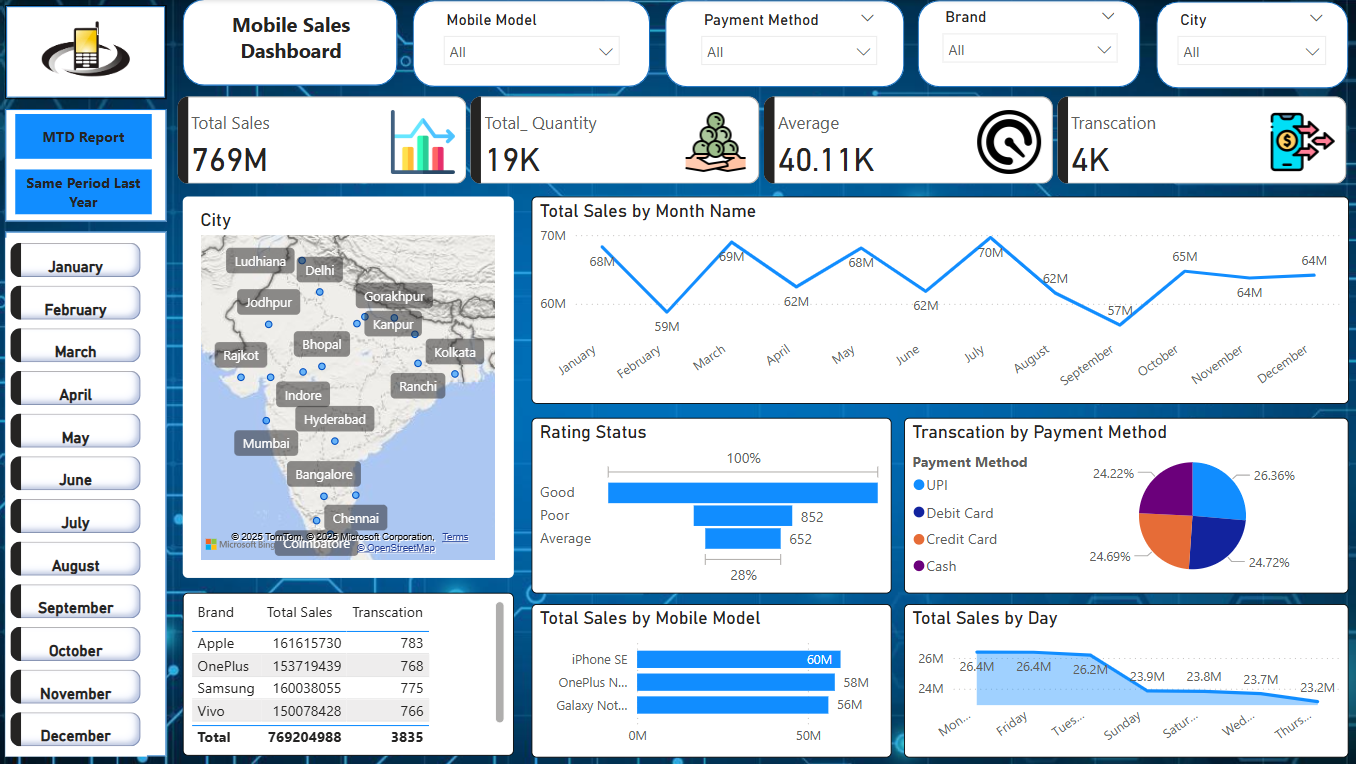

The page's visual inventory and layout, read from the dashboard file:
{"tool":"powerbi","page":{"name":"Dashboard","canvas":[1280,720],"ordinal":0},"visuals":[{"type":"shape","box":[10.5,218,151.2,492.2],"z":0},{"type":"shape","box":[392.5,1.2,222.5,81.2],"z":1000},{"type":"advancedSlicerVisual","fields":{"Values":["dim_date.Month Name"]},"box":[10.5,223.8,132.4,486.3],"z":2000},{"type":"cardVisual","fields":{"Data":["_Measure.Total Sales","_Measure.Total_ Quantity","_Measure.Average","_Measure.Transcation"]},"box":[161.2,81.2,1118.8,102.5],"z":3000},{"type":"shape","box":[177.5,0,201.2,81.2],"z":4000},{"type":"textbox","box":[195,6.2,167.5,71.2],"z":5000},{"type":"slicer","fields":{"Values":["Sales_Data.Mobile Model"]},"box":[411.2,6.2,185,77.5],"z":6000},{"type":"shape","box":[629.2,1.2,224.1,81.5],"z":7000},{"type":"shape","box":[866.5,1.2,208.5,81.5],"z":8000},{"type":"slicer","fields":{"Values":["Sales_Data.Brand"]},"box":[878.5,3.6,184.6,77.9],"z":9000},{"type":"slicer","fields":{"Values":["Sales_Data.Payment Method"]},"box":[652.5,6.2,185,77.5],"z":10000},{"type":"map","fields":{"Category":["Sales_Data.City"]},"box":[177.5,184.7,310.2,357.8],"z":11000},{"type":"shape","box":[10.5,103.1,151.2,105.5],"z":12000},{"type":"shape","box":[10.5,5.9,151.2,87.9],"z":13000},{"type":"lineChart","fields":{"Category":["dim_date.Month Name"],"Y":["_Measure.Total Sales"]},"box":[503.5,184.7,766.1,194.8],"z":14000},{"type":"shape","box":[1089.4,2.4,179.8,81.5],"z":15000},{"type":"slicer","fields":{"Values":["Sales_Data.City"]},"box":[1099,6,159.4,73.1],"z":16000},{"type":"funnel","title":" Rating Status","fields":{"Category":["Sales_Data.Rating Status"],"Y":["CountNonNull(Sales_Data.Customer Ratings)"]},"box":[503.5,392.4,337.6,164.5],"z":17000},{"type":"pieChart","fields":{"Y":["_Measure.Transcation"],"Category":["Sales_Data.Payment Method"]},"box":[852.7,392,416.9,164.6],"z":18000},{"type":"clusteredBarChart","fields":{"Y":["_Measure.Total Sales"],"Category":["Sales_Data.Mobile Model"]},"box":[503.5,567,337.6,144.3],"z":19000},{"type":"areaChart","title":"Total Sales by Day ","fields":{"Y":["_Measure.Total Sales"],"Category":["dim_date.Day Name"]},"box":[853.3,566.9,417.1,143.8],"z":20000},{"type":"tableEx","fields":{"Values":["Sales_Data.Brand","_Measure.Total Sales","_Measure.Transcation"]},"box":[177.5,556.9,310.2,152.9],"z":21000},{"type":"image","box":[32.4,0,106.7,93.5],"z":22000},{"type":"pageNavigator","box":[20.2,108.2,128.4,95.2],"z":23000}]}

Visuals, with their boxes in screenshot pixels (x1, y1, x2, y2), scaled from the page's 1280x720 canvas onto the 1356x764 screenshot:
shape: (11,231,171,754)
shape: (416,1,652,87)
advancedSlicerVisual - dim_date.Month Name: (11,237,151,753)
cardVisual - _Measure.Total Sales x _Measure.Total_ Quantity: (171,86,1355,195)
shape: (188,0,401,86)
textbox: (207,7,384,82)
slicer - Sales_Data.Mobile Model: (436,7,632,89)
shape: (667,1,904,88)
shape: (918,1,1139,88)
slicer - Sales_Data.Brand: (931,4,1126,86)
slicer - Sales_Data.Payment Method: (691,7,887,89)
map - Sales_Data.City: (188,196,517,576)
shape: (11,109,171,221)
shape: (11,6,171,100)
lineChart - dim_date.Month Name x _Measure.Total Sales: (533,196,1345,403)
shape: (1154,3,1345,89)
slicer - Sales_Data.City: (1164,6,1333,84)
" Rating Status" funnel: (533,416,891,591)
pieChart - _Measure.Transcation x Sales_Data.Payment Method: (903,416,1345,591)
clusteredBarChart - _Measure.Total Sales x Sales_Data.Mobile Model: (533,602,891,755)
"Total Sales by Day " areaChart: (904,602,1346,754)
tableEx - Sales_Data.Brand x _Measure.Total Sales: (188,591,517,753)
image: (34,0,147,99)
pageNavigator: (21,115,157,216)
